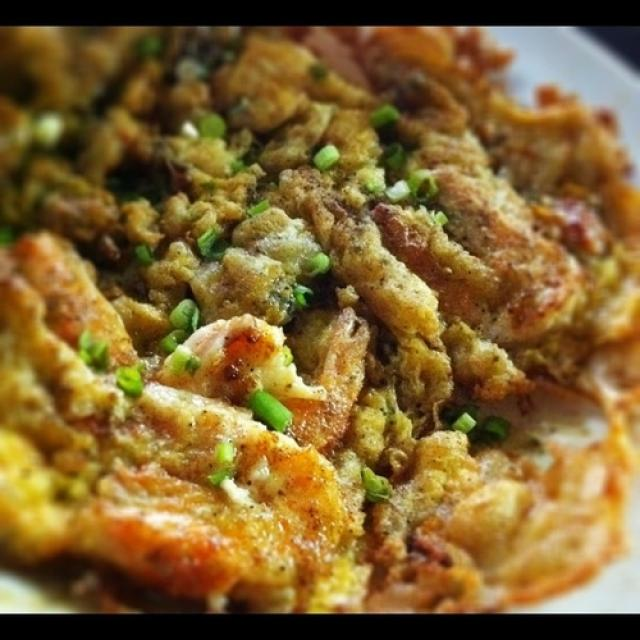炸货点心: (8, 16, 627, 618)
蛋糕甜品: (8, 16, 627, 618)
